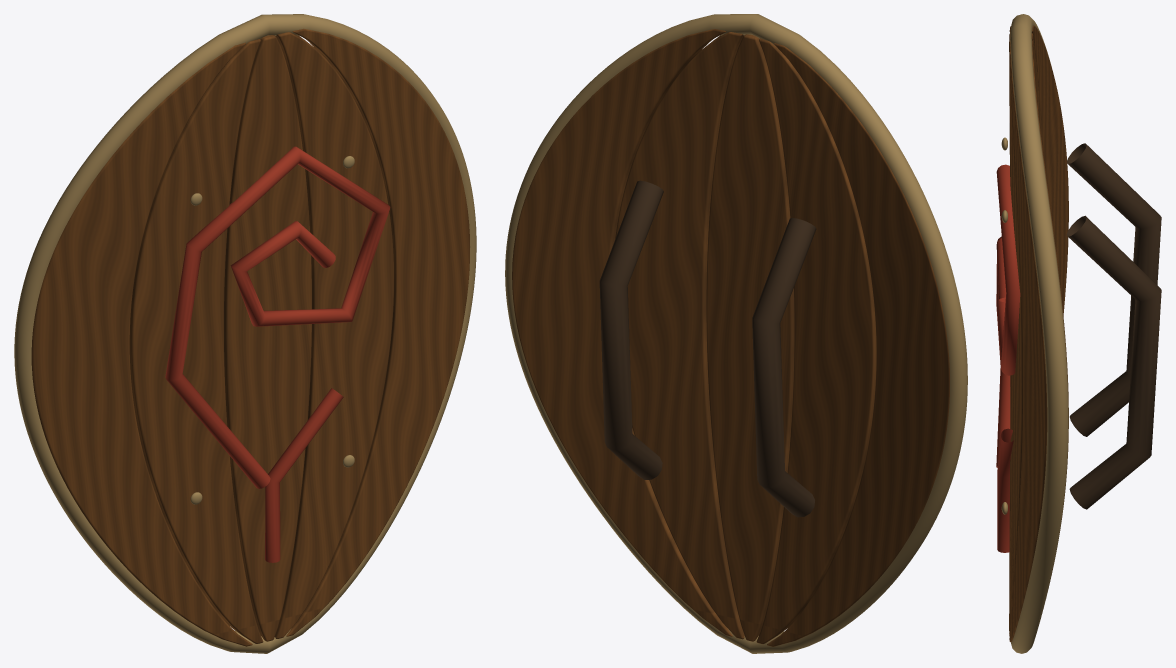
File: deku_shield.glb
3 views of the same model, side by side, from view 1: azimuth 30°, elevation 25°; view 2: azimuth 150°, elevation 25°; view 3: azimuth 270°, elevation 25° (orthographic). The views are drawn at different scales.
Parts seen in each view (by area): view 1: Linden shield plank 1, Linden shield plank 2, Linden shield plank 5, Linden shield plank 4, Linden shield plank 3, Bound bronze shield rim, Carved red forest spiral, Lower forest stem; view 2: Linden shield plank 5, Linden shield plank 4, Linden shield plank 2, Linden shield plank 1, Linden shield plank 3, Bound bronze shield rim, Riveted leather back strap.001, Riveted leather back strap; view 3: Bound bronze shield rim, Linden shield plank 5, Riveted leather back strap.001, Riveted leather back strap, Linden shield plank 1, Carved red forest spiral, Linden shield plank 4, Lower forest stem, Linden shield plank 2, Linden shield plank 3.
Part boxes in pixels (left/top/right/bottom): Linden shield plank 1: left=31, top=42, right=252, bottom=646; Linden shield plank 2: left=129, top=39, right=263, bottom=643; Linden shield plank 5: left=286, top=28, right=469, bottom=636; Linden shield plank 4: left=275, top=32, right=393, bottom=638; Linden shield plank 3: left=224, top=35, right=311, bottom=641; Bound bronze shield rim: left=14, top=14, right=476, bottom=653; Carved red forest spiral: left=165, top=146, right=390, bottom=488; Lower forest stem: left=265, top=388, right=343, bottom=562; Linden shield plank 5: left=512, top=29, right=732, bottom=636; Linden shield plank 4: left=615, top=32, right=744, bottom=639; Linden shield plank 2: left=756, top=38, right=876, bottom=643; Linden shield plank 1: left=767, top=43, right=949, bottom=646; Linden shield plank 3: left=706, top=34, right=794, bottom=641; Bound bronze shield rim: left=505, top=14, right=967, bottom=653; Riveted leather back strap.001: left=599, top=180, right=663, bottom=479; Riveted leather back strap: left=752, top=218, right=816, bottom=517; Bound bronze shield rim: left=1010, top=14, right=1068, bottom=653; Linden shield plank 5: left=1009, top=54, right=1068, bottom=642; Riveted leather back strap.001: left=1066, top=215, right=1161, bottom=509; Riveted leather back strap: left=1066, top=143, right=1161, bottom=436; Linden shield plank 1: left=1009, top=25, right=1068, bottom=315; Carved red forest spiral: left=996, top=164, right=1020, bottom=467; Linden shield plank 4: left=1009, top=47, right=1032, bottom=635; Lower forest stem: left=997, top=428, right=1013, bottom=552; Linden shield plank 2: left=1009, top=33, right=1042, bottom=149; Linden shield plank 3: left=1009, top=40, right=1032, bottom=630.
Bounding box in the file's own units: 0.4822 × 0.64 × 0.1541.
Materials: 4 (1 with a texture image).
